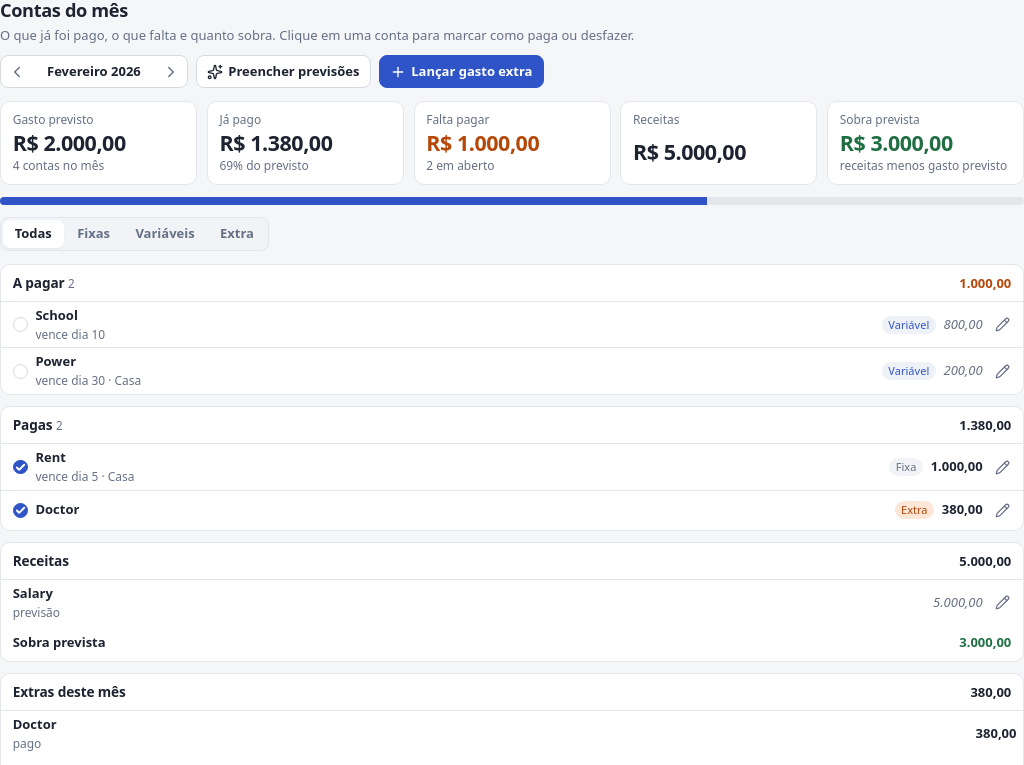
MonthPage › opens the value of a bill to be changed
Check: the element "A pagar" is shown, box [0,264,1023,395]
Click the button named "Editar Power".
click(1003, 371)  # box [989,357,1016,385]
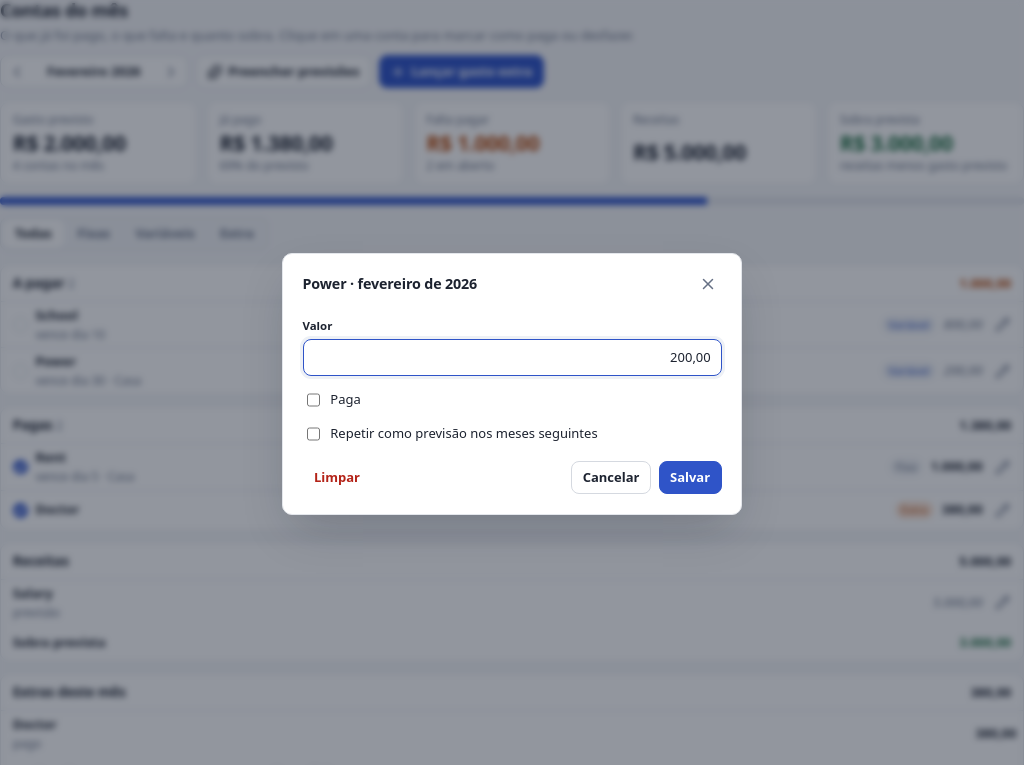
Replace the text in the field labelled "Valor" with "23000" at (512, 357), box [302,339,722,376]
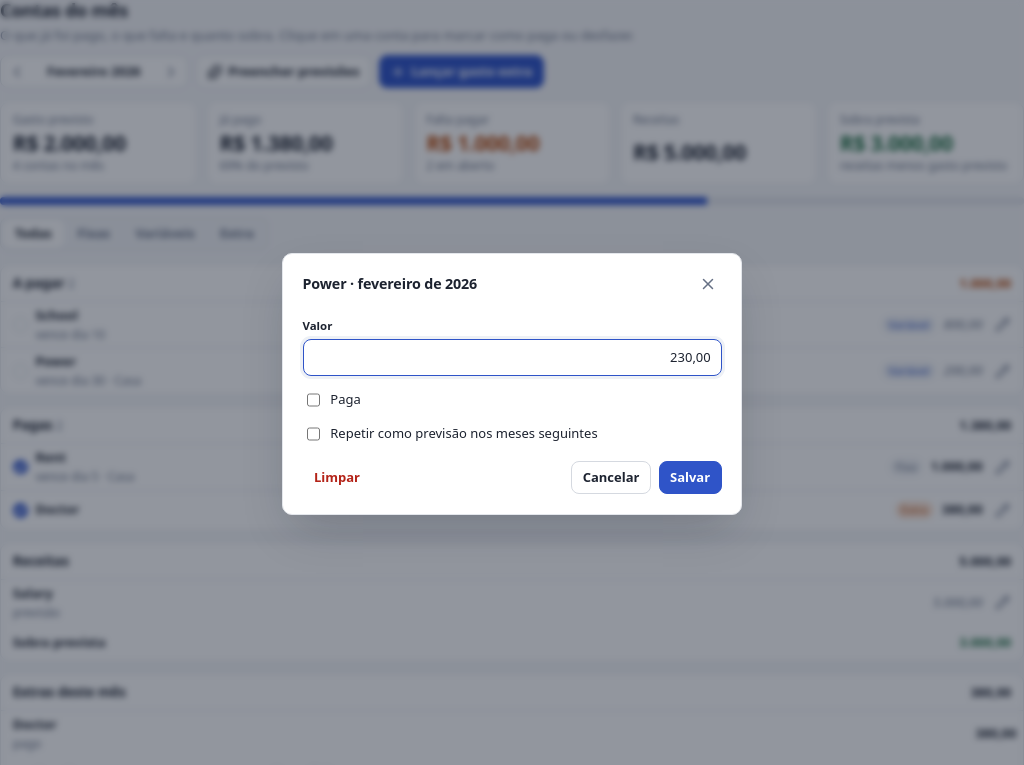
Click the button "Salvar".
click(690, 478)  # box [659,461,722,494]
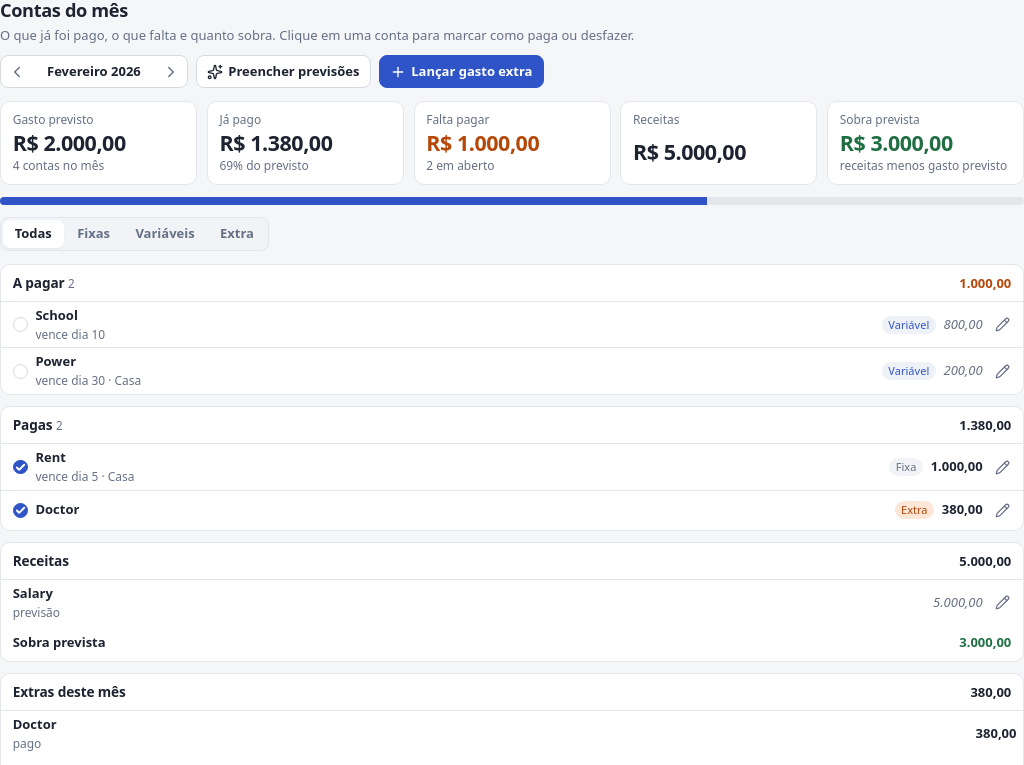
Check: the dialog is gone
